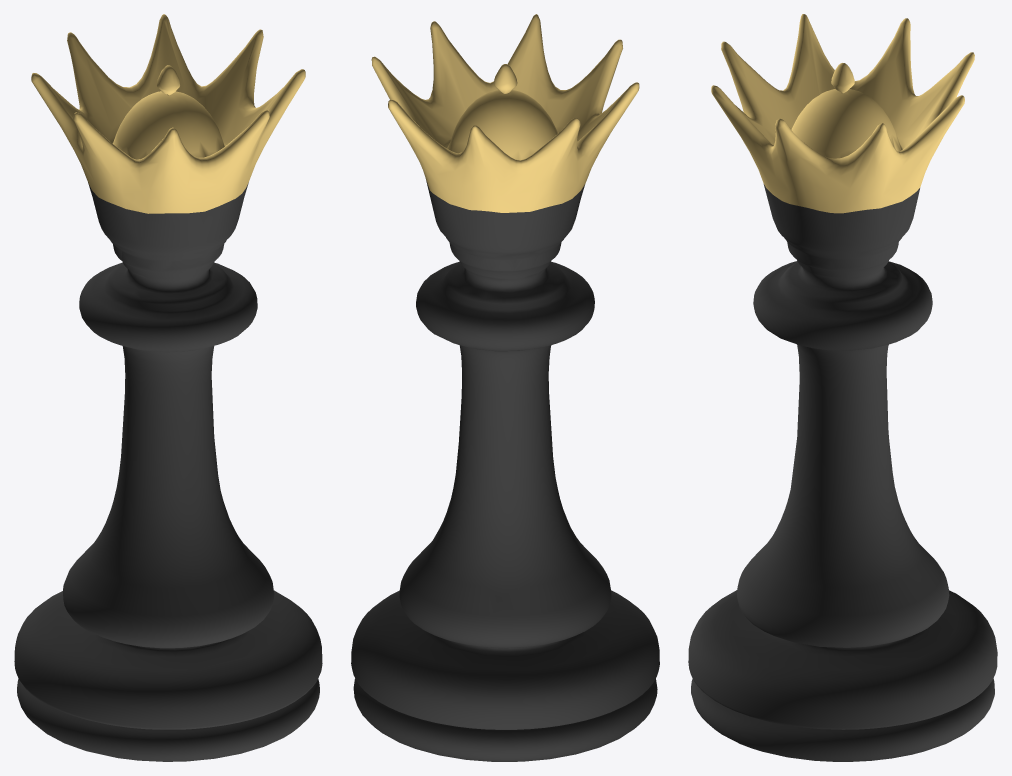
File: gercek7_q_b.glb
3 renders of one model, left to right at view 1: azimuth 30°, elevation 25°; view 2: azimuth 150°, elevation 25°; view 3: azimuth 270°, elevation 25°, orthographic.
Visible parts, largest first — view 1: q_b_0; view 2: q_b_0; view 3: q_b_0.
Boxes of the visible parts, x1=… form: q_b_0: x1=14, y1=14, x2=322, y2=761; q_b_0: x1=351, y1=14, x2=659, y2=761; q_b_0: x1=688, y1=14, x2=997, y2=761.
Bounding box in the file's own units: 0.392 × 0.9 × 0.3922.
